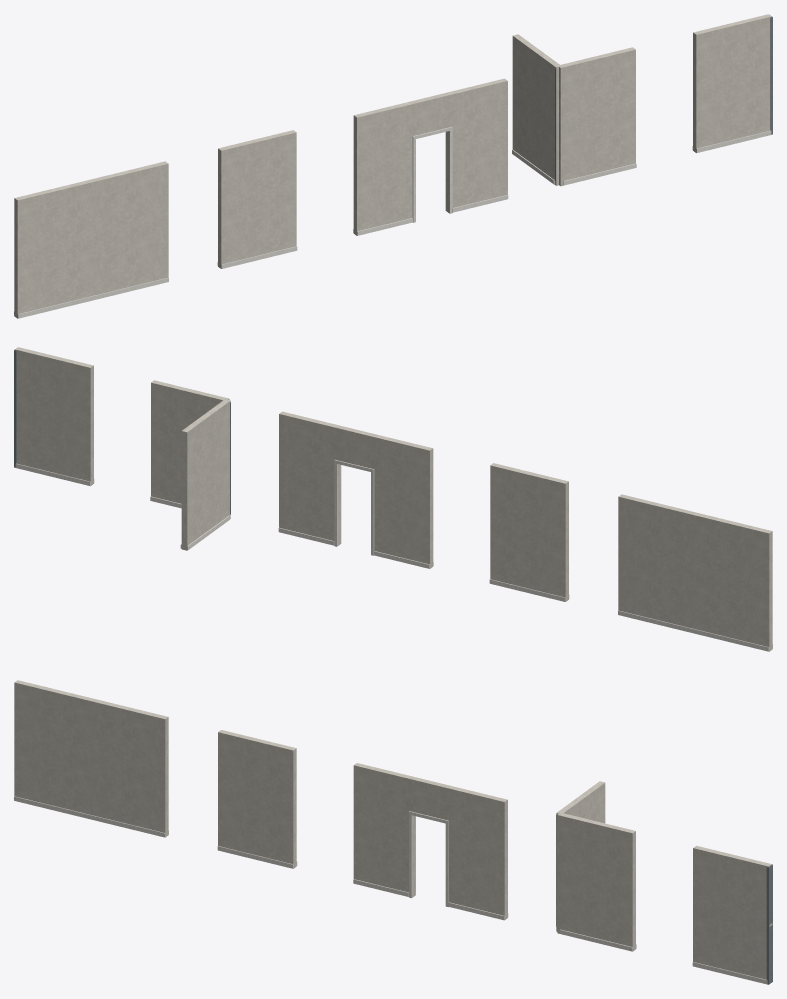
The model's file is PROJECT_Z_InteriorPartition_CompleteKit.glb.
3 views of the same model, one above another, from view 1: azimuth 30°, elevation 25°; view 2: azimuth 150°, elevation 25°; view 3: azimuth 330°, elevation 25° (orthographic).
Visible parts, largest first — view 1: V01_Straight_4m__Render_Plastershell_Continuous, V03_Doorway_4m__Render_DoorwayShell_TrueAperture, V04_LCorner_2x2m__Render_LCorner_SingleManifold, V02_Straight_2m__Render_Plastershell_Continuous, V05_Finished_EndCap_2m__Render_Plastershell_Continuous, V01_Straight_4m__Render_Skirting_Front; view 2: V01_Straight_4m__Render_Plastershell_Continuous, V03_Doorway_4m__Render_DoorwayShell_TrueAperture, V04_LCorner_2x2m__Render_LCorner_SingleManifold, V02_Straight_2m__Render_Plastershell_Continuous, V05_Finished_EndCap_2m__Render_Plastershell_Continuous, V01_Straight_4m__Render_Skirting_Back; view 3: V01_Straight_4m__Render_Plastershell_Continuous, V03_Doorway_4m__Render_DoorwayShell_TrueAperture, V04_LCorner_2x2m__Render_LCorner_SingleManifold, V02_Straight_2m__Render_Plastershell_Continuous, V05_Finished_EndCap_2m__Render_Plastershell_Continuous, V01_Straight_4m__Render_Skirting_Front.
Part boxes in pixels (x1,y1,x2,y2): V01_Straight_4m__Render_Plastershell_Continuous: [14, 161, 168, 318]; V03_Doorway_4m__Render_DoorwayShell_TrueAperture: [353, 78, 507, 235]; V04_LCorner_2x2m__Render_LCorner_SingleManifold: [512, 34, 635, 186]; V02_Straight_2m__Render_Plastershell_Continuous: [218, 130, 296, 268]; V05_Finished_EndCap_2m__Render_Plastershell_Continuous: [693, 14, 771, 153]; V01_Straight_4m__Render_Skirting_Front: [17, 277, 168, 318]; V01_Straight_4m__Render_Plastershell_Continuous: [618, 494, 772, 651]; V03_Doorway_4m__Render_DoorwayShell_TrueAperture: [279, 411, 433, 568]; V04_LCorner_2x2m__Render_LCorner_SingleManifold: [151, 380, 230, 550]; V02_Straight_2m__Render_Plastershell_Continuous: [490, 463, 568, 601]; V05_Finished_EndCap_2m__Render_Plastershell_Continuous: [15, 347, 93, 486]; V01_Straight_4m__Render_Skirting_Back: [618, 610, 769, 651]; V01_Straight_4m__Render_Plastershell_Continuous: [14, 680, 168, 837]; V03_Doorway_4m__Render_DoorwayShell_TrueAperture: [353, 763, 507, 920]; V04_LCorner_2x2m__Render_LCorner_SingleManifold: [556, 781, 635, 951]; V02_Straight_2m__Render_Plastershell_Continuous: [218, 730, 296, 868]; V05_Finished_EndCap_2m__Render_Plastershell_Continuous: [693, 845, 771, 984]; V01_Straight_4m__Render_Skirting_Front: [14, 796, 165, 837].
Size of the model in its own units: 20.03 by 3 by 2.1.
Materials: 4 (4 with a texture image).
